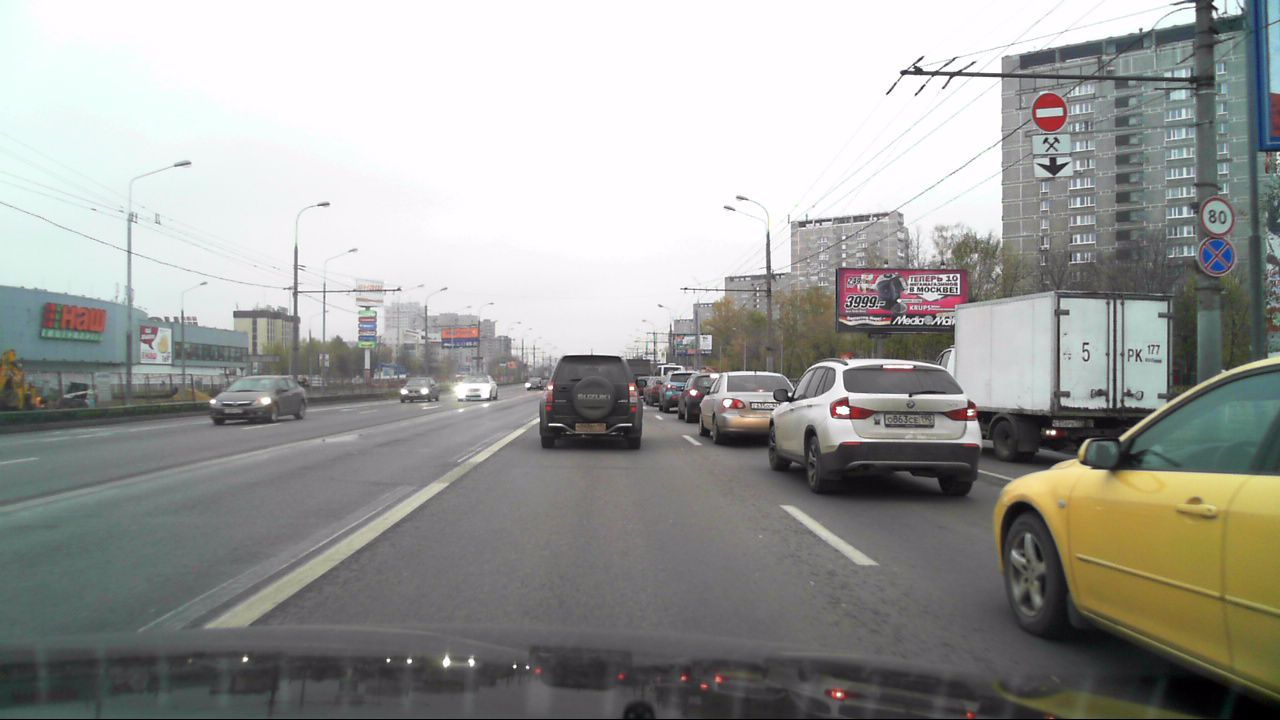No Parking: (1198, 240, 1236, 275)
